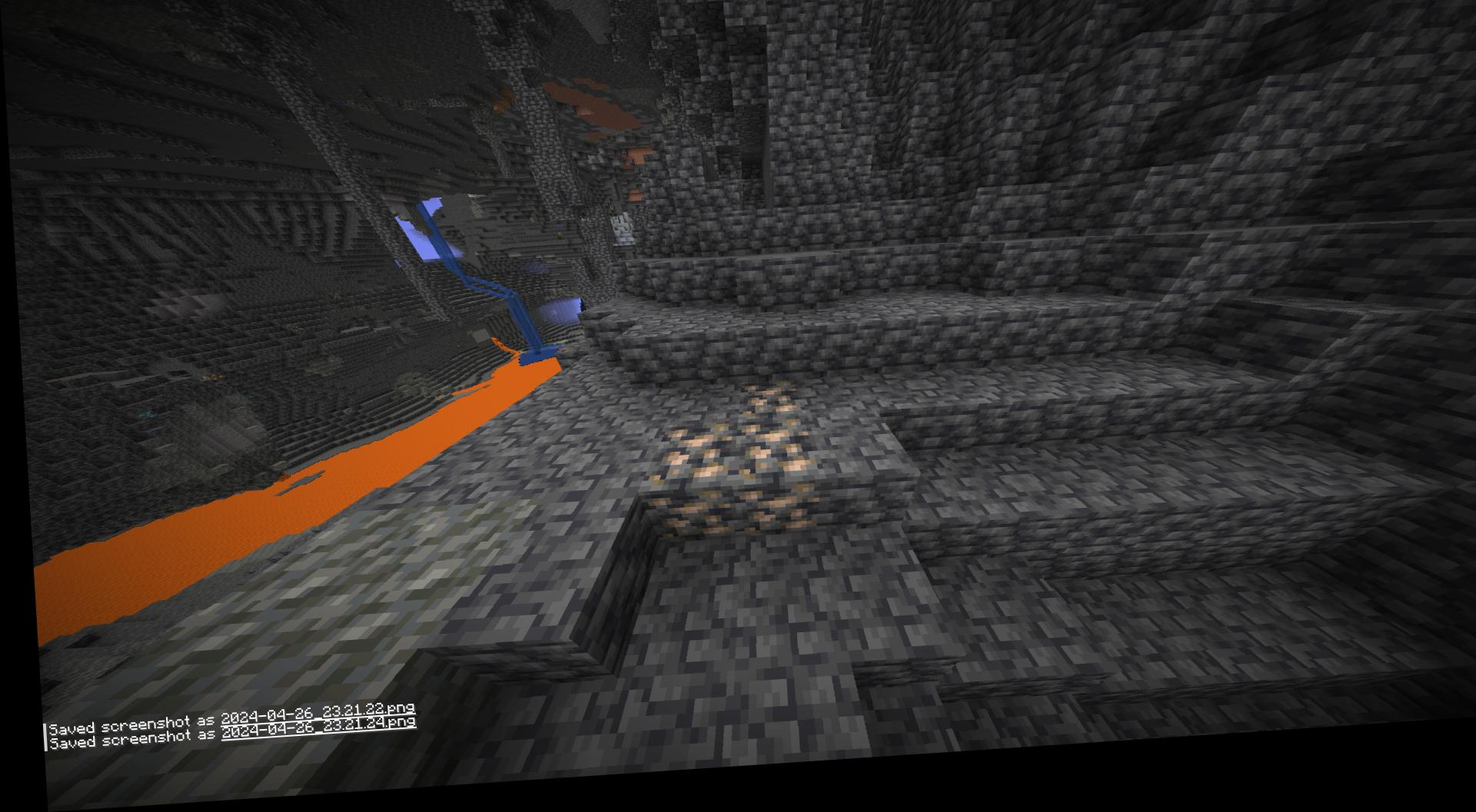iron ore: (637, 429, 725, 497), (728, 428, 806, 490), (729, 496, 811, 546), (651, 500, 726, 548), (733, 385, 792, 429)
